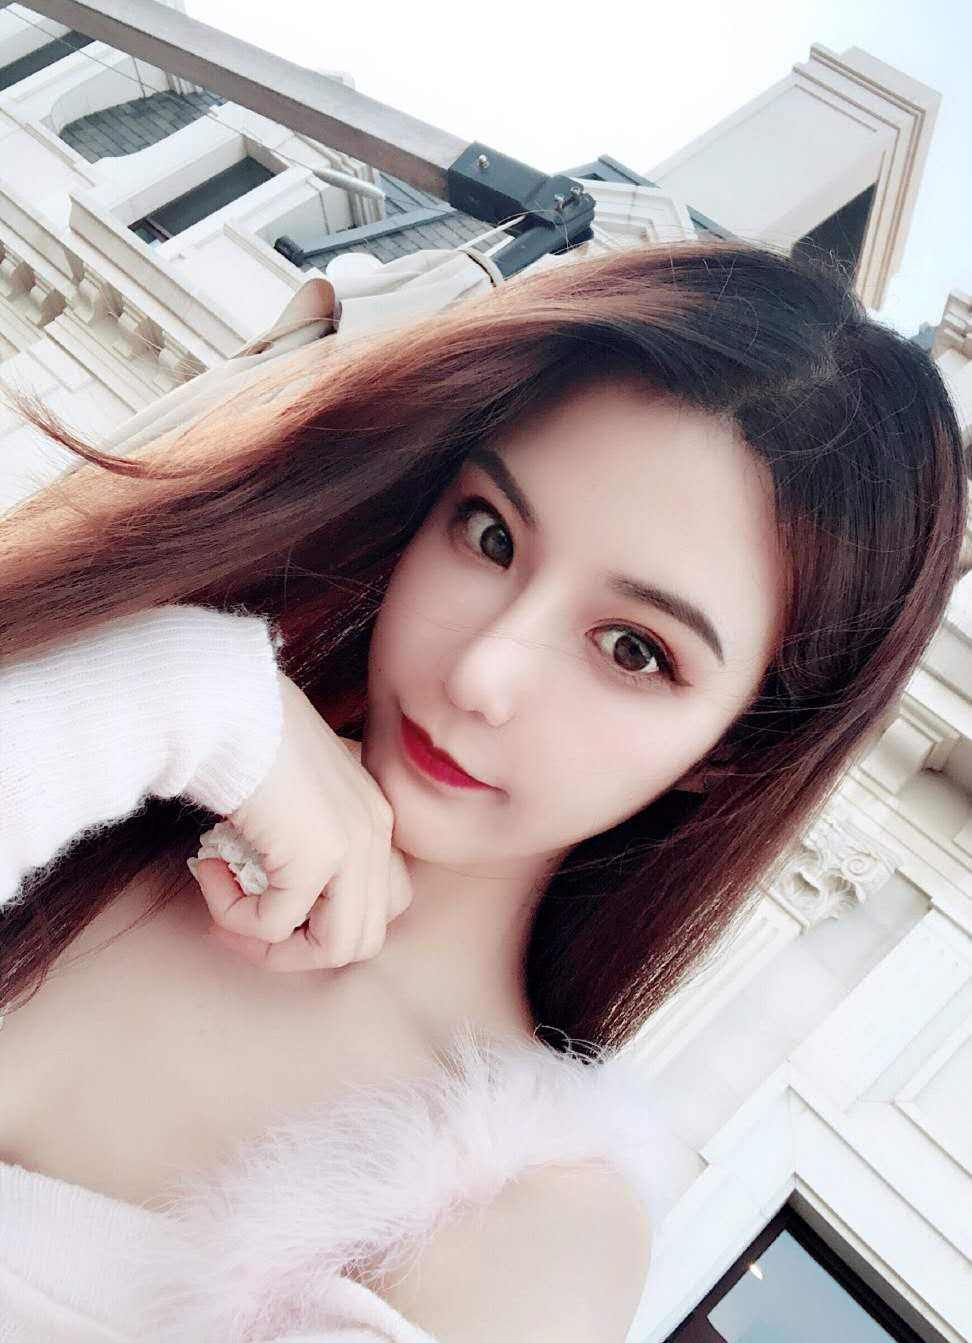person: (89, 264, 901, 1237)
